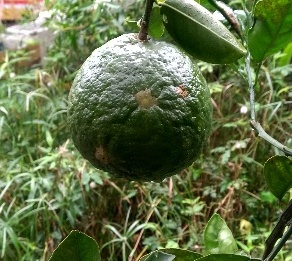Cam: (66, 30, 212, 183)
